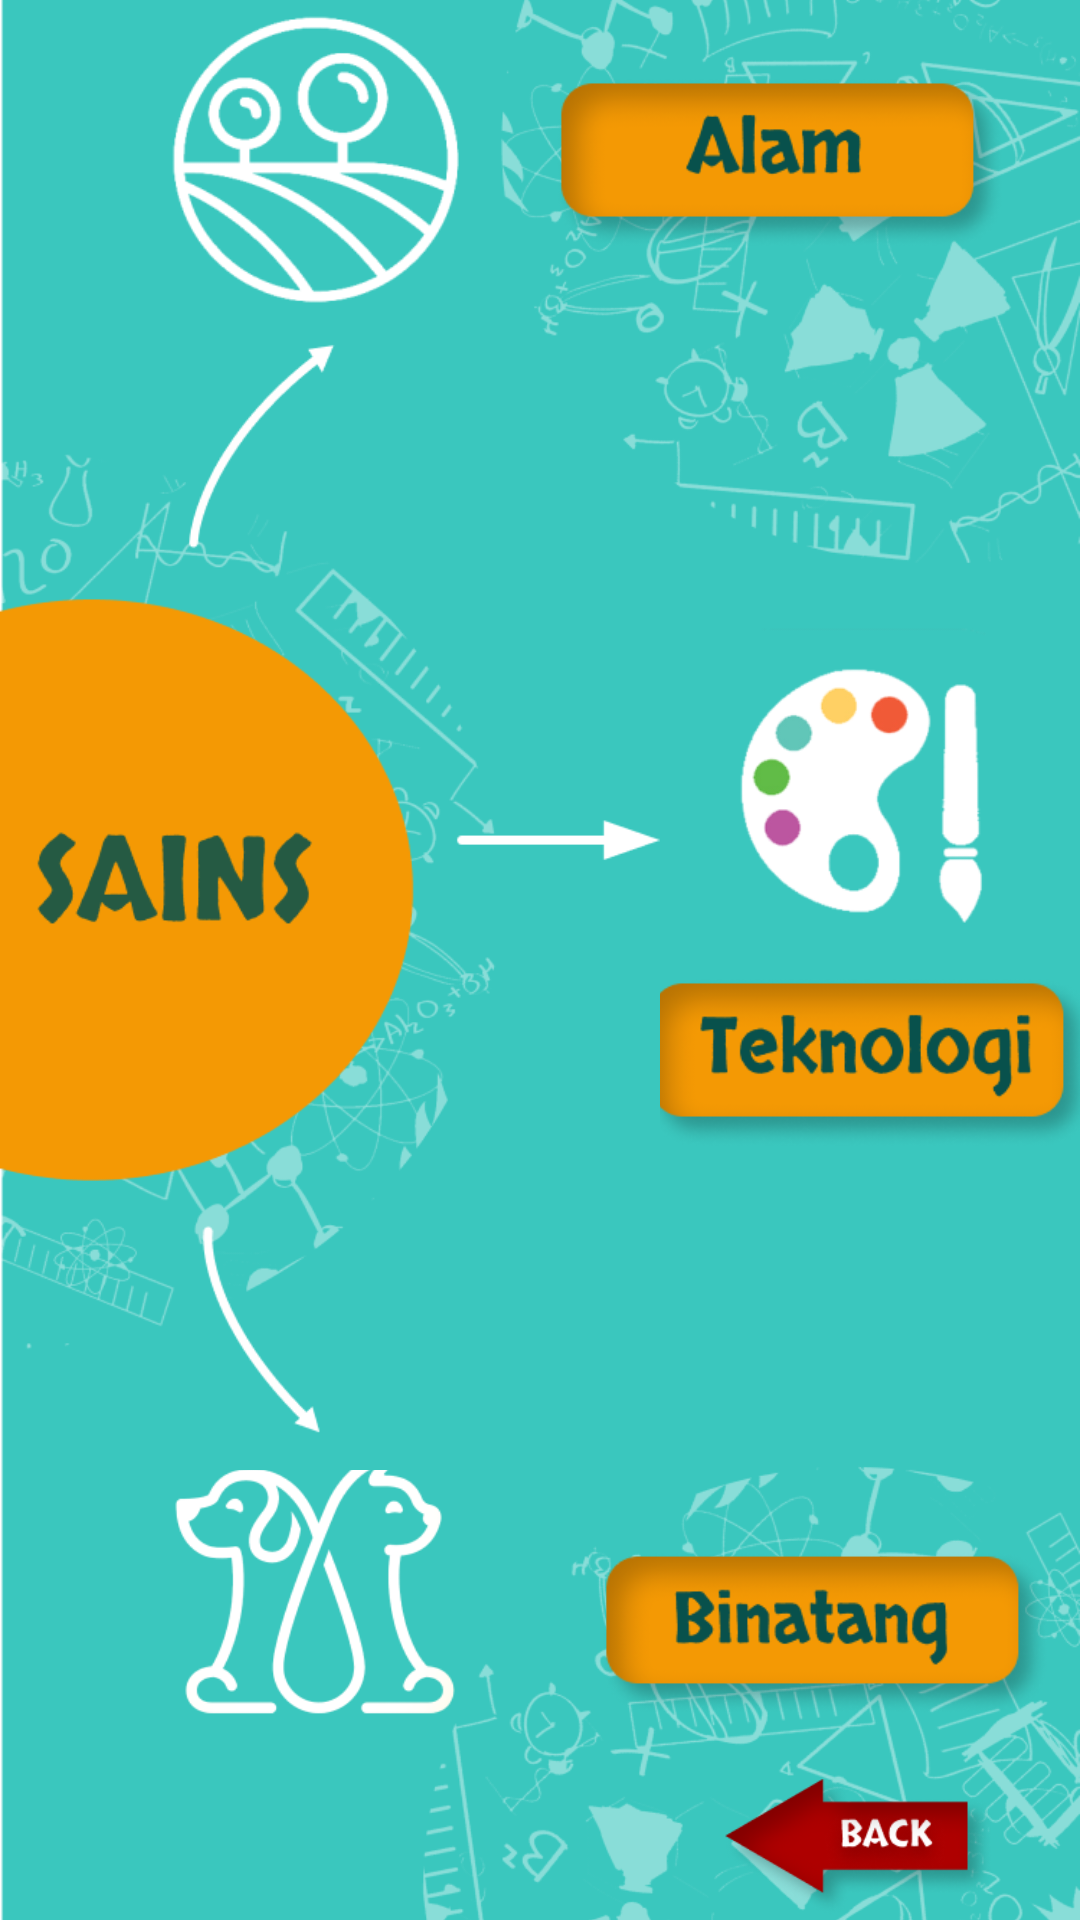

Icons on this 1080 x 1920 Android screen, each with its box as bbox=(x1, y1, x2, y2):
canvas: bbox=(741, 669, 982, 923)
